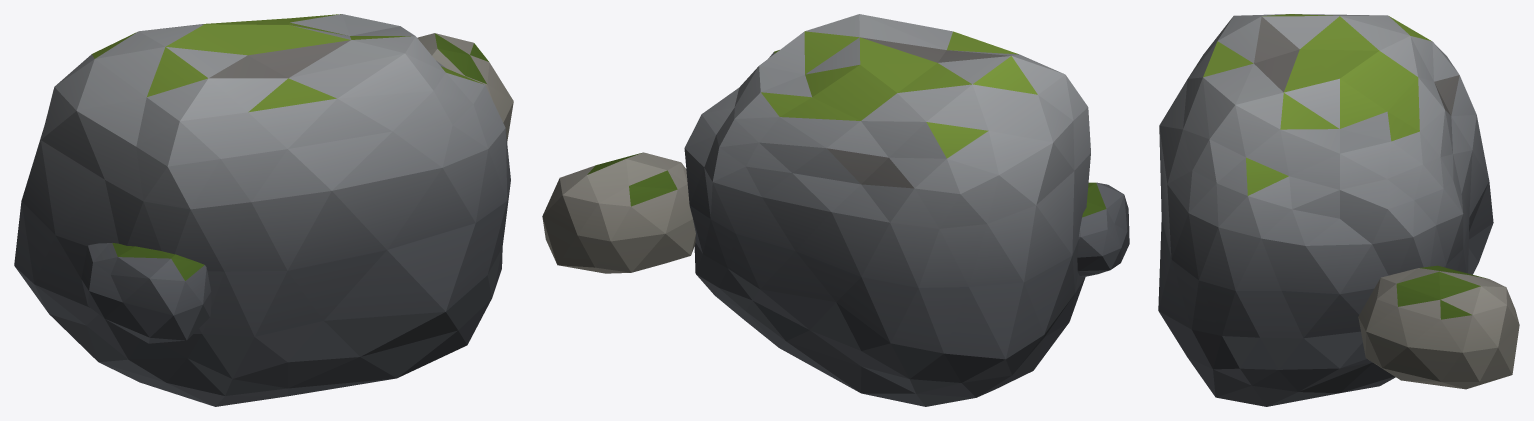
Rendered from Boulder_A.fbx.
3 views of the same model, side by side, from view 1: azimuth 30°, elevation 25°; view 2: azimuth 150°, elevation 25°; view 3: azimuth 270°, elevation 25° (orthographic). The views are drawn at different scales.
Parts seen in each view (by area): view 1: Boulder_A_LOD0; view 2: Boulder_A_LOD0; view 3: Boulder_A_LOD0.
Part boxes in pixels (x1,y1,x2,y2): Boulder_A_LOD0: [14, 14, 513, 406]; Boulder_A_LOD0: [542, 14, 1129, 406]; Boulder_A_LOD0: [1158, 14, 1519, 406].
Size of what is drawn, in the model's own units: 3.83 by 2.42 by 2.54.
1 material, 1 textured.
